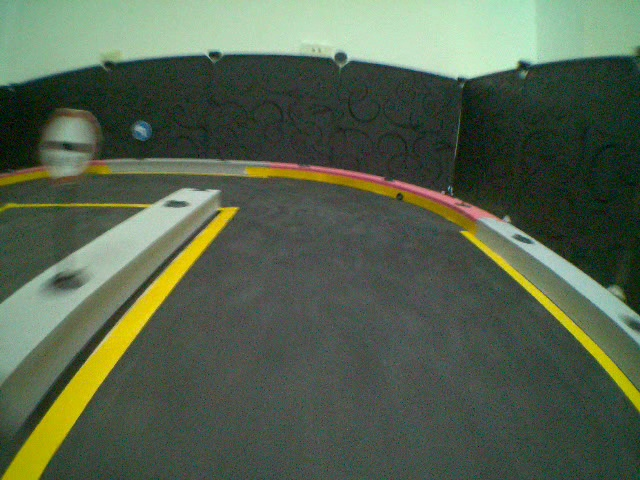Check: (35, 107, 101, 182)
turn: (131, 120, 151, 142)
